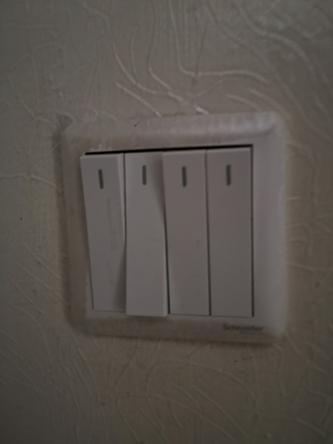switch: (201, 144, 262, 322), (158, 144, 219, 321), (76, 146, 134, 316), (117, 148, 174, 319)
